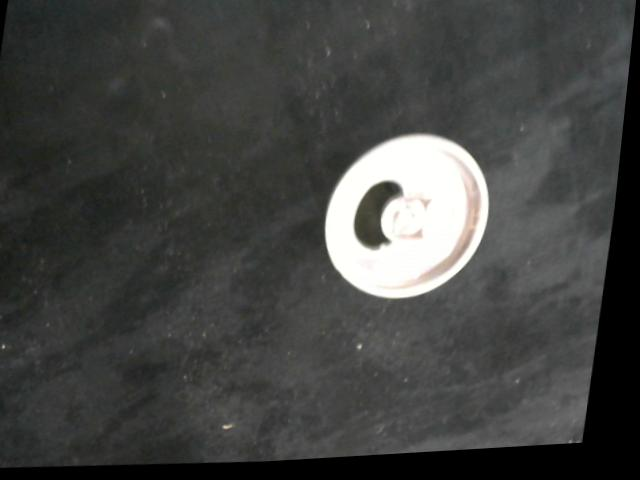can: (320, 131, 506, 313)
